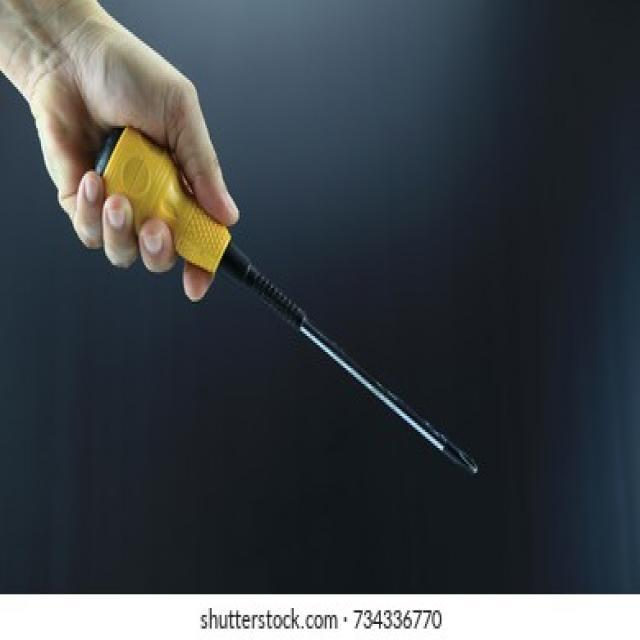screwdriver: (88, 126, 480, 484)
